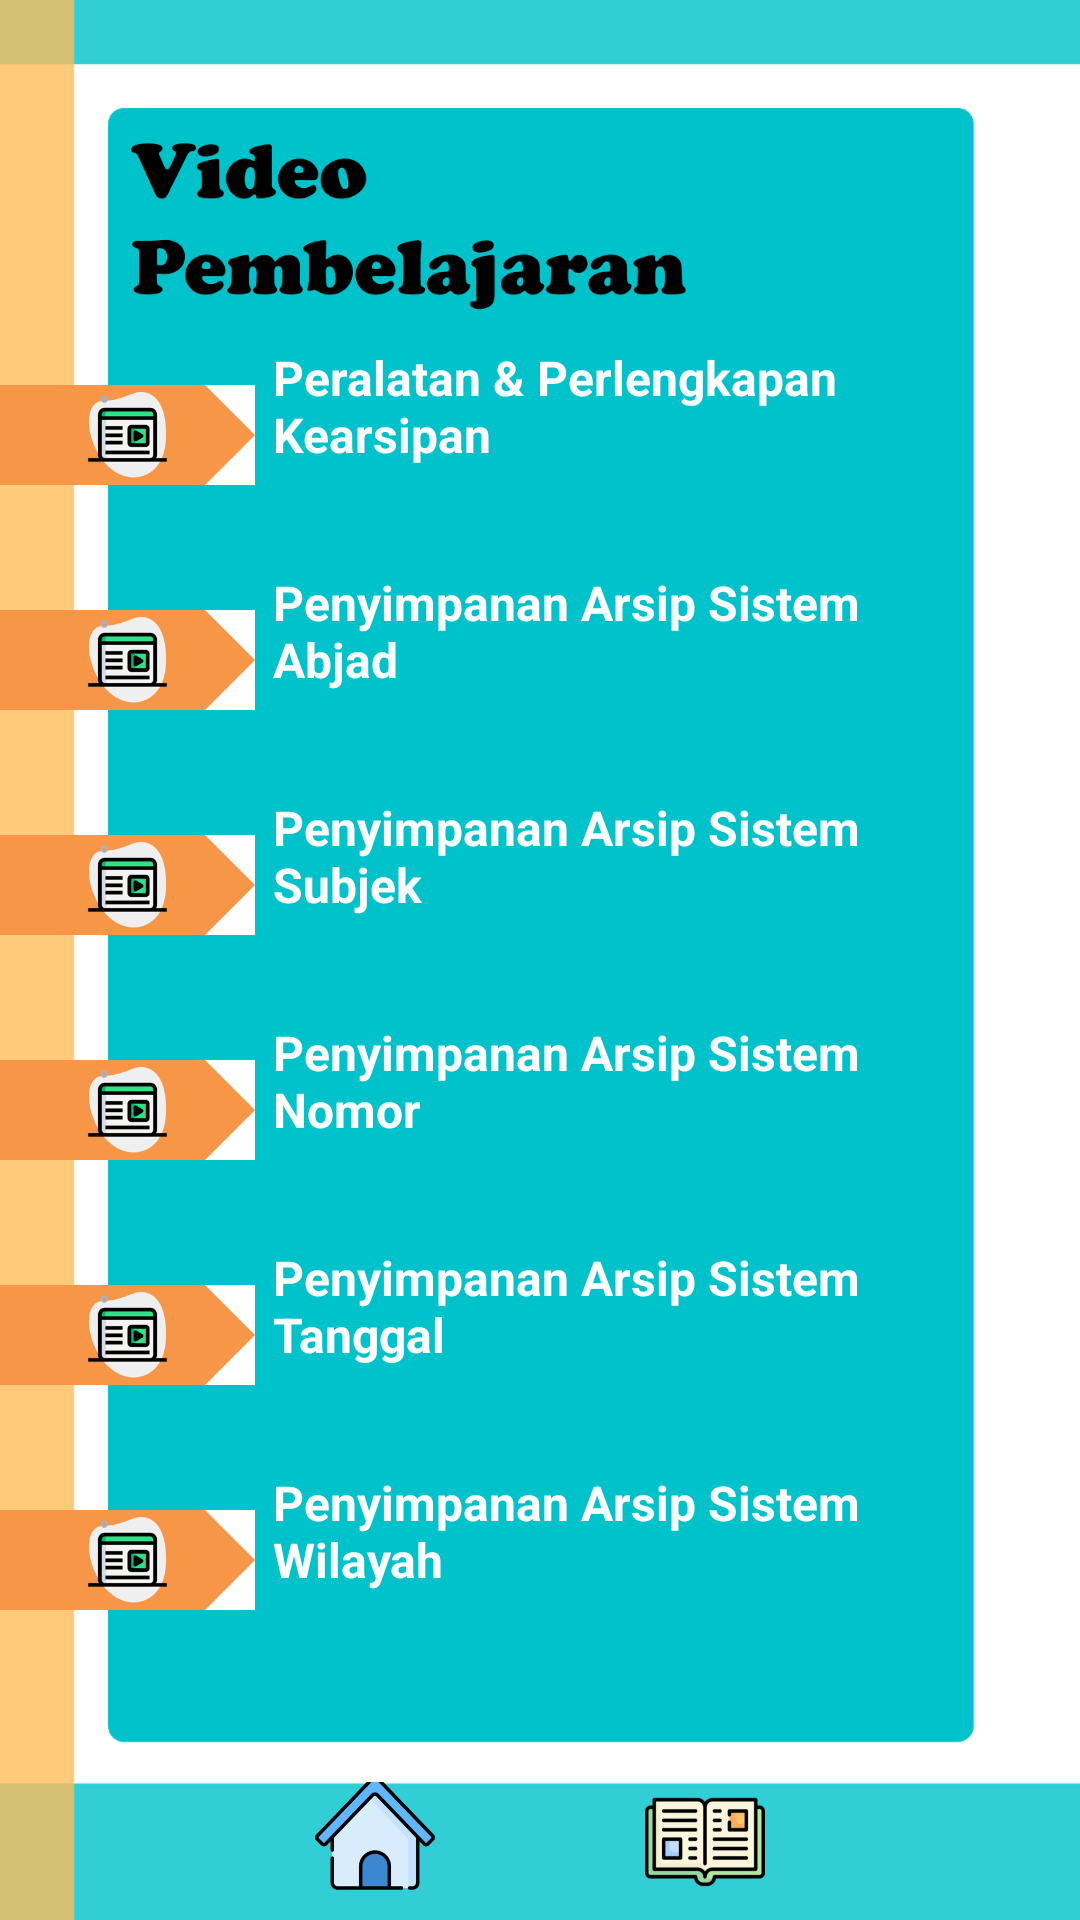

Screen size 1080×1920. Icon name, then its center in pixels as point (x, y):
home: point (375, 1836)
materi: point (705, 1842)
